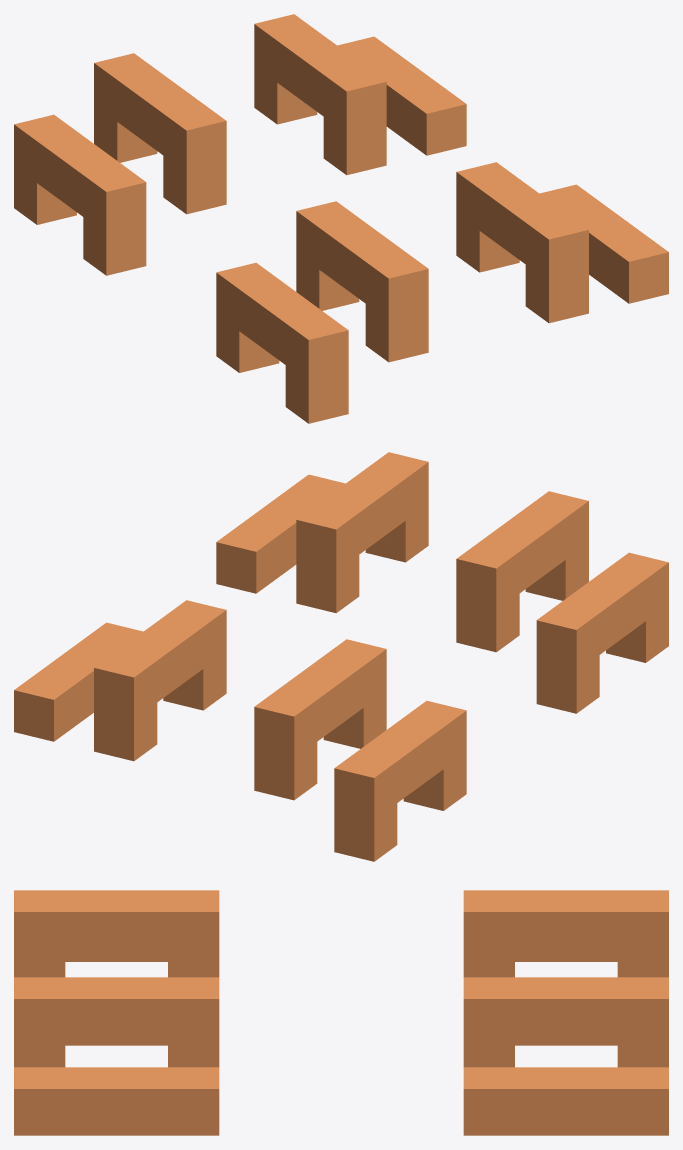
File: salmon 3.obj
3 renders of one model, top to bottom at view 1: azimuth 30°, elevation 25°; view 2: azimuth 150°, elevation 25°; view 3: azimuth 270°, elevation 25°, orthographic. The views are drawn at different scales.
Size of the model in its own units: 2.18 by 0.7273 by 3.09.
